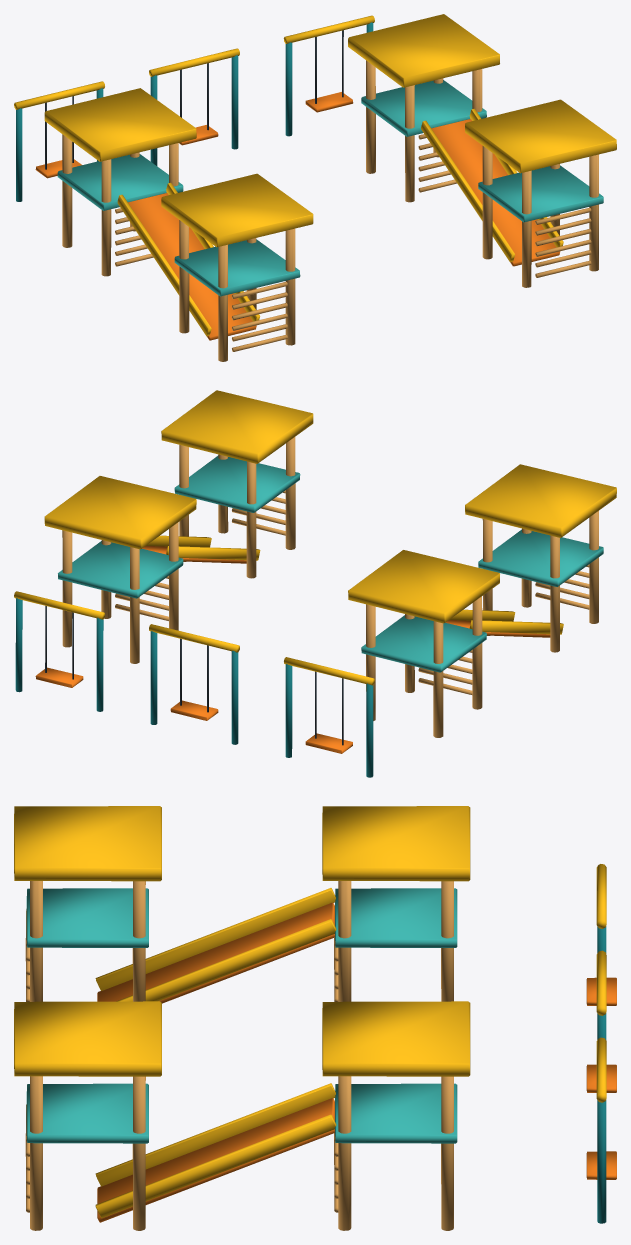
The model's file is project_1-low.glb.
The picture shows the model from 3 angles, top to bottom: view 1: azimuth 30°, elevation 25°; view 2: azimuth 150°, elevation 25°; view 3: azimuth 270°, elevation 25°; orthographic projection. The views are drawn at different scales.
Parts seen in each view (by area): view 1: canopy.002, canopy, canopy.001, canopy.003, ladder rung.015, ladder rung.021, play deck.002, play deck.003, slide.001, slide, play deck, play deck.001 (+11 smaller); view 2: canopy.003, canopy.001, canopy, canopy.002, ladder rung.009, ladder rung.003, play deck, play deck.002, play deck.001, play deck.003, ladder rung.021, ladder rung.015 (+11 smaller); view 3: canopy.001, canopy.003, canopy, canopy.002, slide rail.002, slide rail, play deck.001, play deck, play deck.003, play deck.002, slide.001, slide (+11 smaller).
Part boxes in pixels (<box>): canopy.002: <box>161,173,313,247</box>; canopy: <box>44,88,196,161</box>; canopy.001: <box>348,14,499,87</box>; canopy.003: <box>465,99,616,173</box>; ladder rung.015: <box>179,220,295,361</box>; ladder rung.021: <box>482,146,598,287</box>; play deck.002: <box>174,239,300,296</box>; play deck.003: <box>478,165,603,222</box>; slide.001: <box>431,119,559,266</box>; slide: <box>128,193,256,340</box>; play deck: <box>57,154,183,210</box>; play deck.001: <box>361,80,486,136</box>; canopy.003: <box>161,390,313,463</box>; canopy.001: <box>44,476,196,549</box>; canopy: <box>348,550,499,623</box>; canopy.002: <box>465,464,616,537</box>; ladder rung.009: <box>62,522,178,663</box>; ladder rung.003: <box>366,596,482,737</box>; play deck: <box>361,615,486,672</box>; play deck.002: <box>478,529,603,586</box>; play deck.001: <box>58,541,183,598</box>; play deck.003: <box>174,455,300,512</box>; ladder rung.021: <box>179,437,295,578</box>; ladder rung.015: <box>482,511,598,652</box>; canopy.001: <box>322,1001,470,1076</box>; canopy.003: <box>14,1001,161,1076</box>; canopy: <box>322,806,470,881</box>; canopy.002: <box>14,806,161,881</box>; slide rail.002: <box>95,1083,336,1218</box>; slide rail: <box>95,888,336,1001</box>; play deck.001: <box>335,1083,457,1143</box>; play deck: <box>335,888,457,947</box>; play deck.003: <box>26,1083,148,1143</box>; play deck.002: <box>26,888,148,947</box>; slide.001: <box>97,1098,334,1222</box>; slide: <box>97,902,334,1003</box>.
Size of the model in its own units: 11.88 by 3.77 by 11.74.
